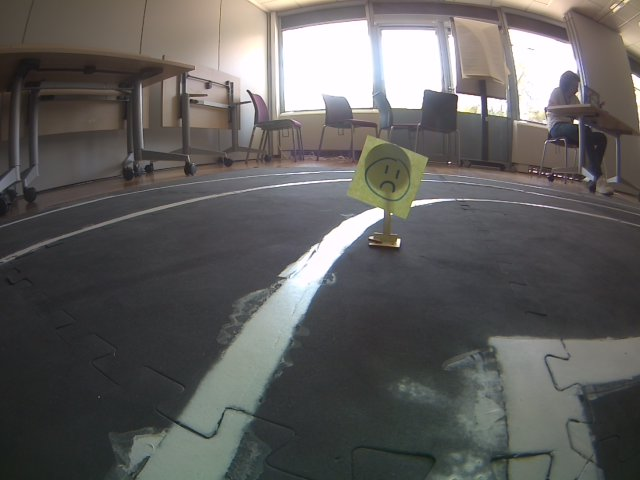Smiley: (345, 131, 430, 221)
